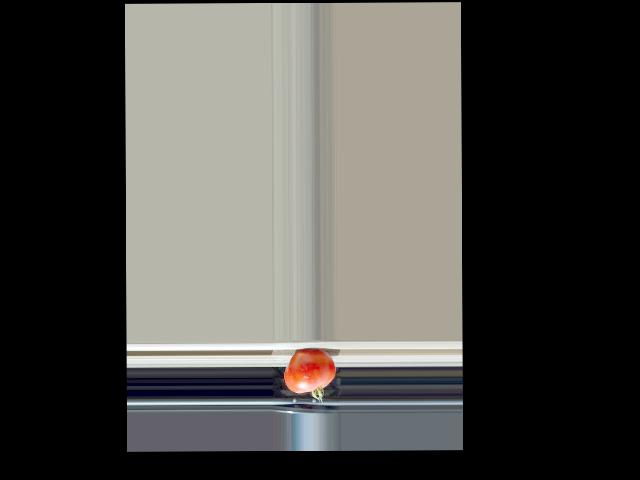tomato: (284, 349, 335, 402)
